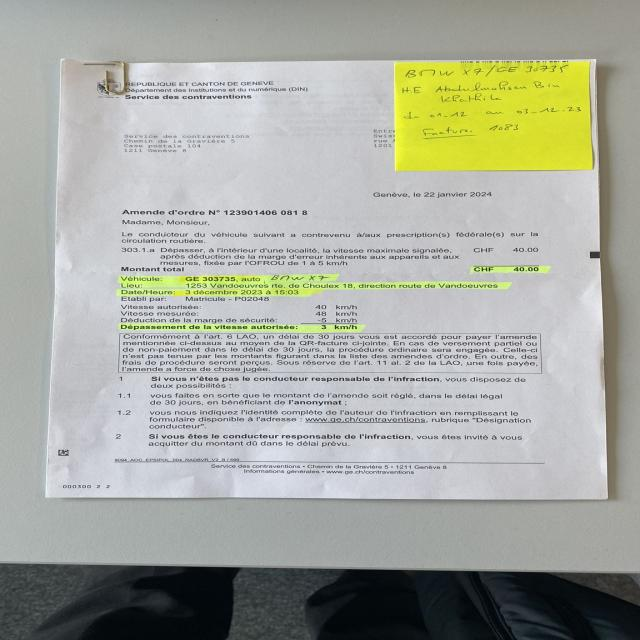paper-document-: (47, 59, 606, 499)
